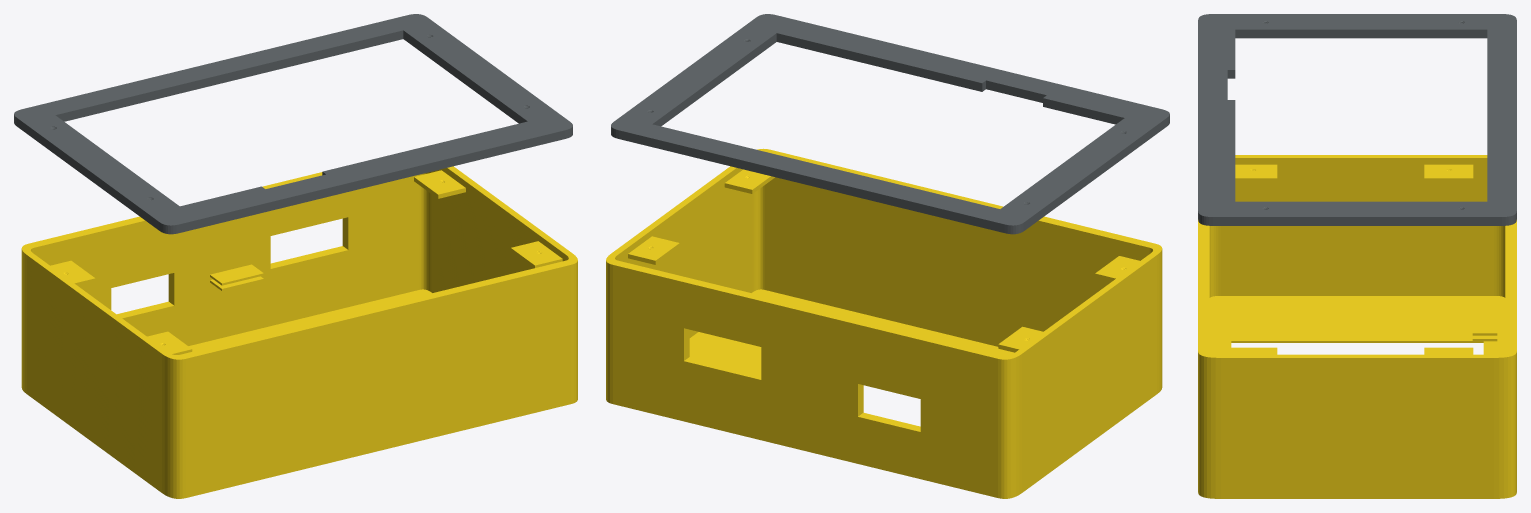
Rendered from tinker.obj.
3 renders of one model, left to right at view 1: azimuth 30°, elevation 25°; view 2: azimuth 150°, elevation 25°; view 3: azimuth 270°, elevation 25°, orthographic.
Parts seen in each view (by area): view 1: obj_1, obj_0; view 2: obj_1, obj_0; view 3: obj_1, obj_0.
Boxes of the visible parts, x1=… form: obj_1: x1=21, y1=166, x2=577, y2=498; obj_0: x1=14, y1=14, x2=572, y2=234; obj_1: x1=606, y1=148, x2=1162, y2=498; obj_0: x1=611, y1=14, x2=1169, y2=234; obj_1: x1=1198, y1=155, x2=1516, y2=498; obj_0: x1=1198, y1=14, x2=1516, y2=225.
Bounding box in the file's own units: 199 × 126 × 130.
